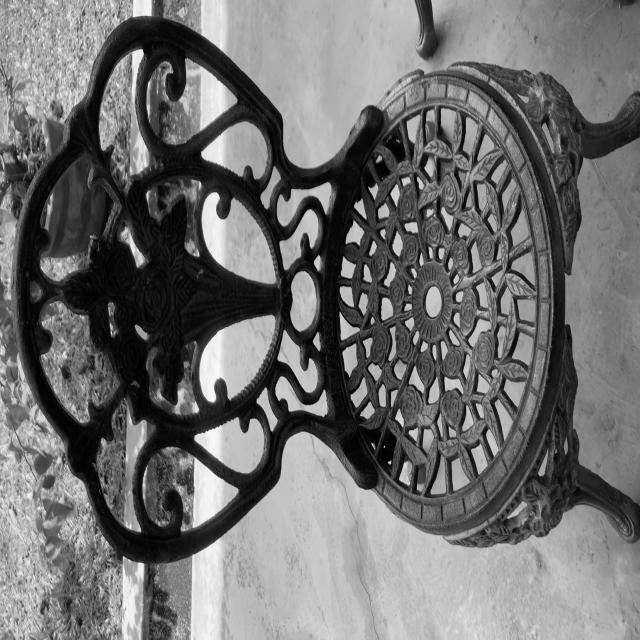chair: (10, 10, 640, 583)
